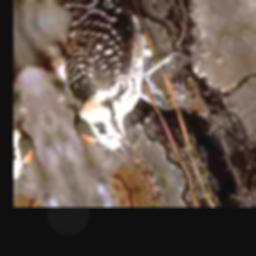Woodpecker: (37, 0, 216, 185)
